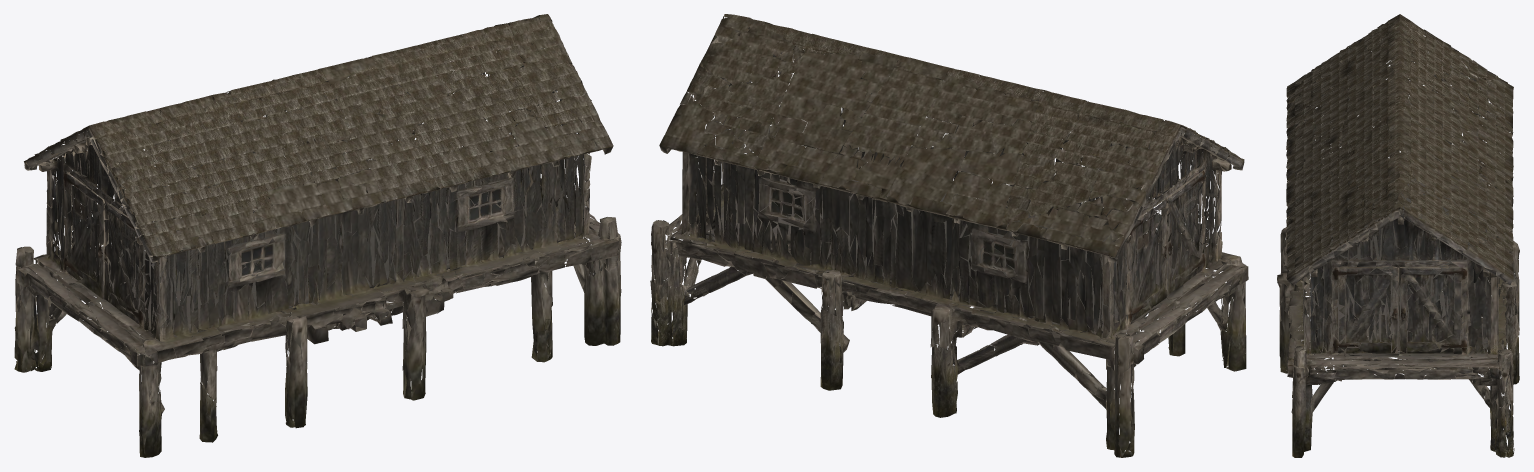
File: szopa_na_lodzie.glb
3 renders of one model, left to right at view 1: azimuth 30°, elevation 25°; view 2: azimuth 150°, elevation 25°; view 3: azimuth 270°, elevation 25°, orthographic. The views are drawn at different scales.
Visible parts, largest first — view 1: Mesh_0; view 2: Mesh_0; view 3: Mesh_0.
Part boxes in pixels (x1,y1,x2,y2): Mesh_0: (14, 14, 621, 457); Mesh_0: (650, 14, 1248, 457); Mesh_0: (1277, 14, 1519, 457).
Bounding box in the file's own units: 1.91 × 1.07 × 0.9534.
1 material, 1 textured.
